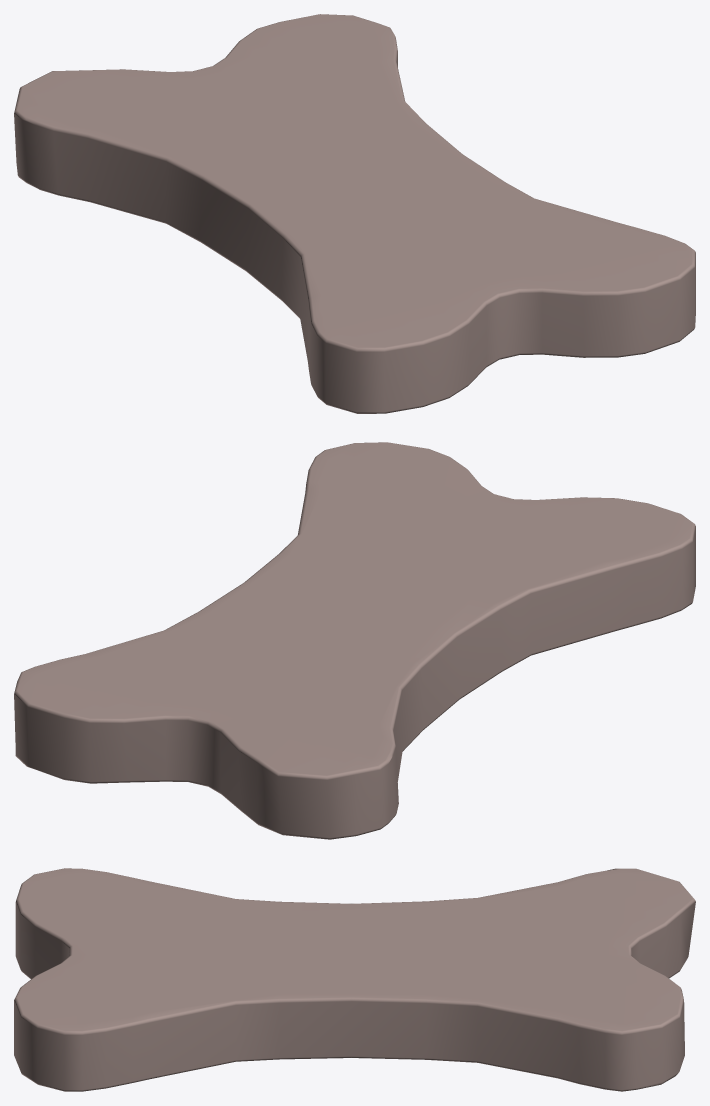
The model's file is milkbone.fbx.
The picture shows the model from 3 angles, top to bottom: view 1: azimuth 30°, elevation 25°; view 2: azimuth 150°, elevation 25°; view 3: azimuth 270°, elevation 25°; orthographic projection. The views are drawn at different scales.
Parts seen in each view (by area): view 1: pCube1; view 2: pCube1; view 3: pCube1.
Boxes of the visible parts, x1=… form: pCube1: x1=14, y1=14, x2=695, y2=413; pCube1: x1=14, y1=442, x2=695, y2=839; pCube1: x1=14, y1=868, x2=695, y2=1091.
Bounding box in the file's own units: 0.8816 × 0.1511 × 1.54.
